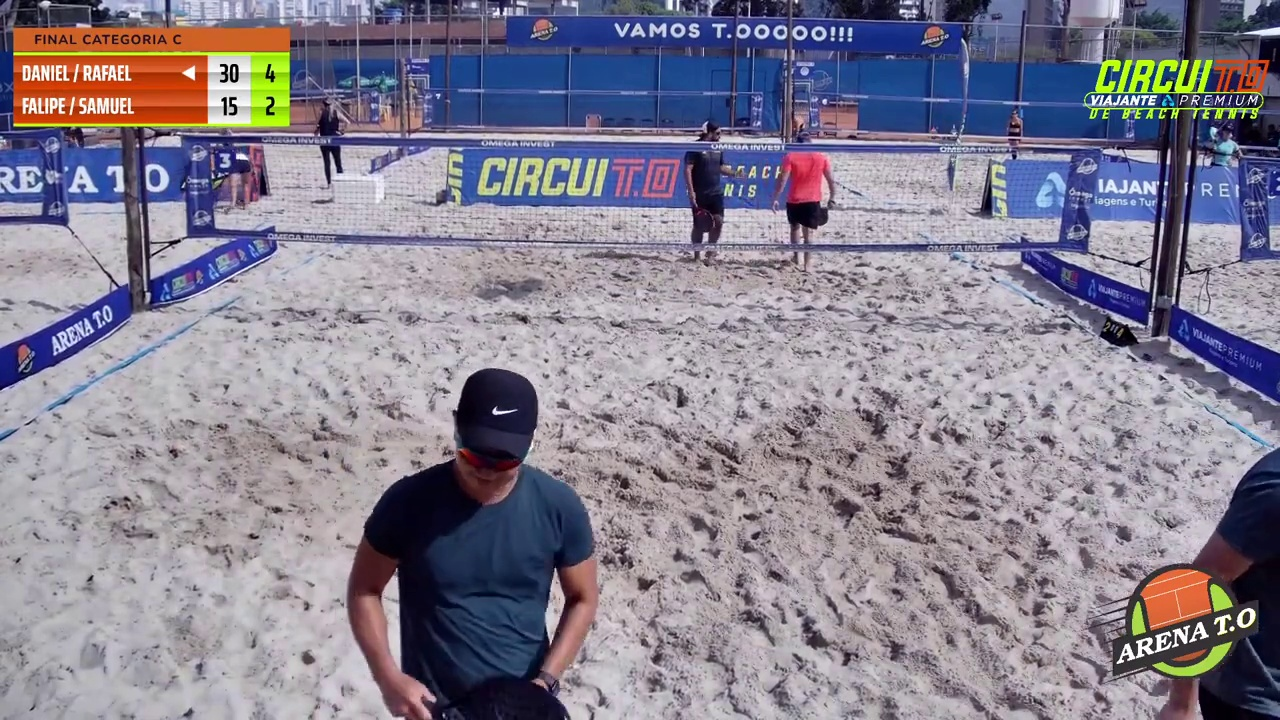court_line: (643, 0, 796, 323)
